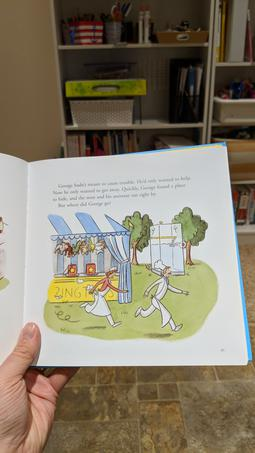text block: (53, 173, 203, 208)
